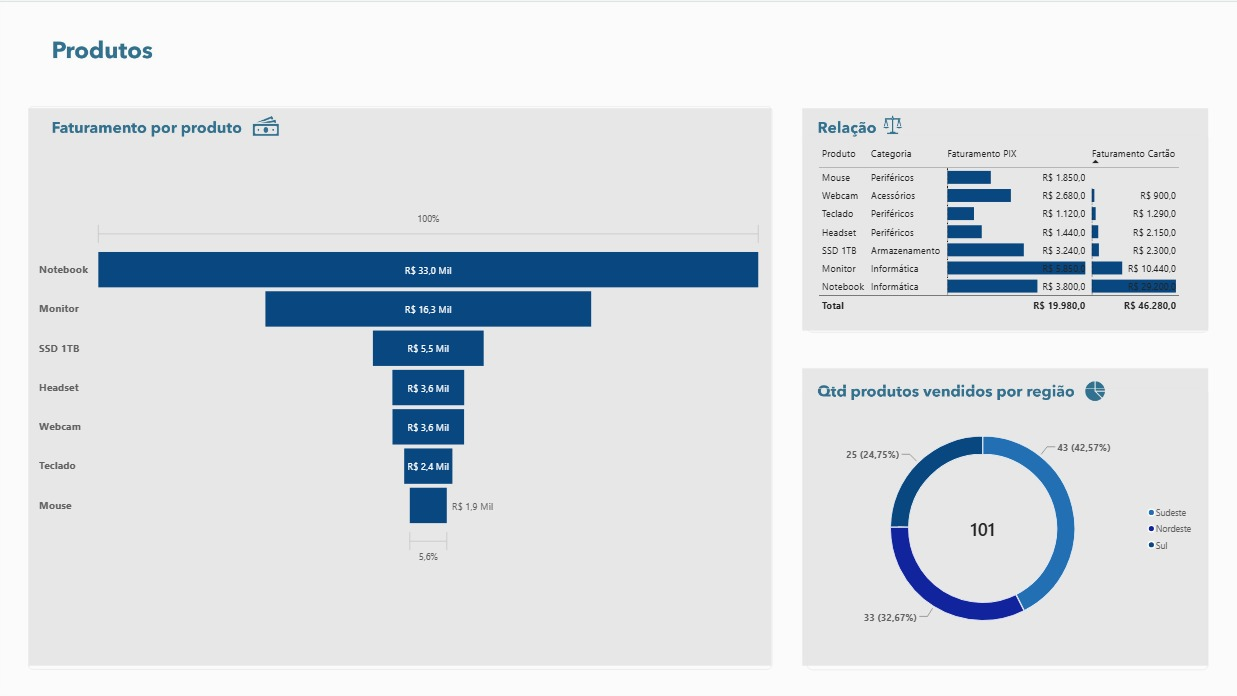

Layout of this report page (visuals, bound fields, positions):
{"tool":"powerbi","page":{"name":"Produtos","canvas":[1920,1080],"ordinal":2},"visuals":[{"type":"donutChart","fields":{"Category":["Folha1.Região"],"Y":["Medidas.Qtd produtos vendidos"]},"box":[1251.9,597.5,619.9,435.7],"z":0},{"type":"tableEx","fields":{"Values":["Folha1.Produto","Folha1.Categoria","Medidas.Faturamento PIX","Medidas.Faturamento Cartão"]},"box":[1251.9,204.9,619.9,306.5],"z":1000},{"type":"funnel","fields":{"Category":["Folha1.Produto"],"Y":["Medidas.Faturamento"]},"box":[48.2,161.9,1150.3,871.3],"z":4000}]}

Visuals, with their boxes in screenshot pixels (x1, y1, x2, y2), scaled from the page's 1920x1080 canvas onto the 1237x696 screenshot:
donutChart - Folha1.Região x Medidas.Qtd produtos vendidos: box(807, 385, 1206, 666)
tableEx - Folha1.Produto x Folha1.Categoria: box(807, 132, 1206, 330)
funnel - Folha1.Produto x Medidas.Faturamento: box(31, 104, 772, 666)
